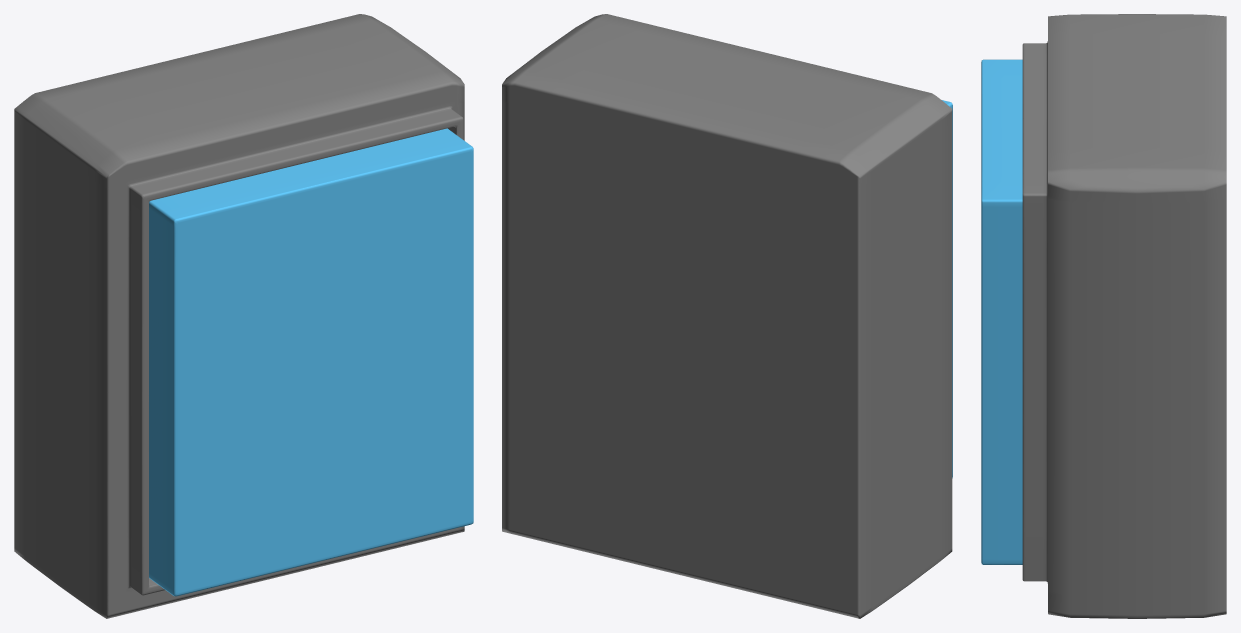
File: Button_02.fbx
3 views of the same model, side by side, from view 1: azimuth 30°, elevation 25°; view 2: azimuth 150°, elevation 25°; view 3: azimuth 270°, elevation 25° (orthographic). The views are drawn at different scales.
Visible parts, largest first — view 1: polySurface2, Button_02; view 2: Button_02; view 3: Button_02, polySurface2.
Boxes of the visible parts, x1,y1,x2,y2 form: polySurface2: [149, 128, 473, 596]; Button_02: [14, 14, 464, 618]; Button_02: [502, 14, 952, 618]; Button_02: [1022, 14, 1226, 618]; polySurface2: [981, 59, 1022, 564].
Bounding box in the file's own units: 1 × 1.18 × 0.5956.
